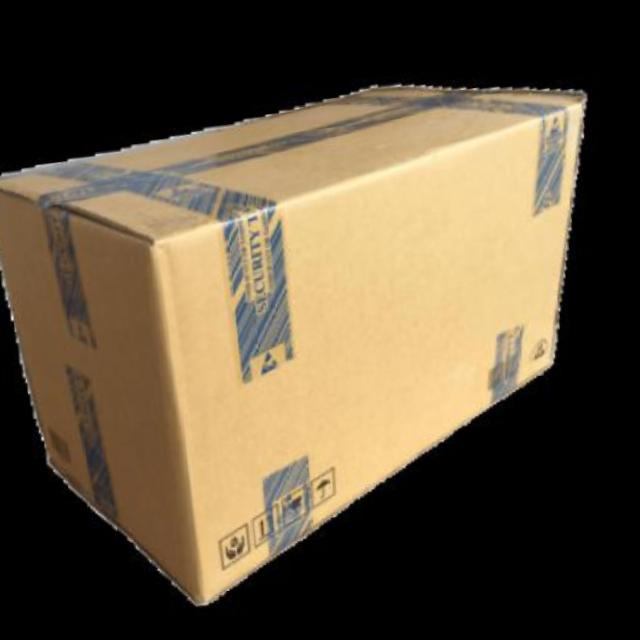box: (0, 43, 637, 640)
